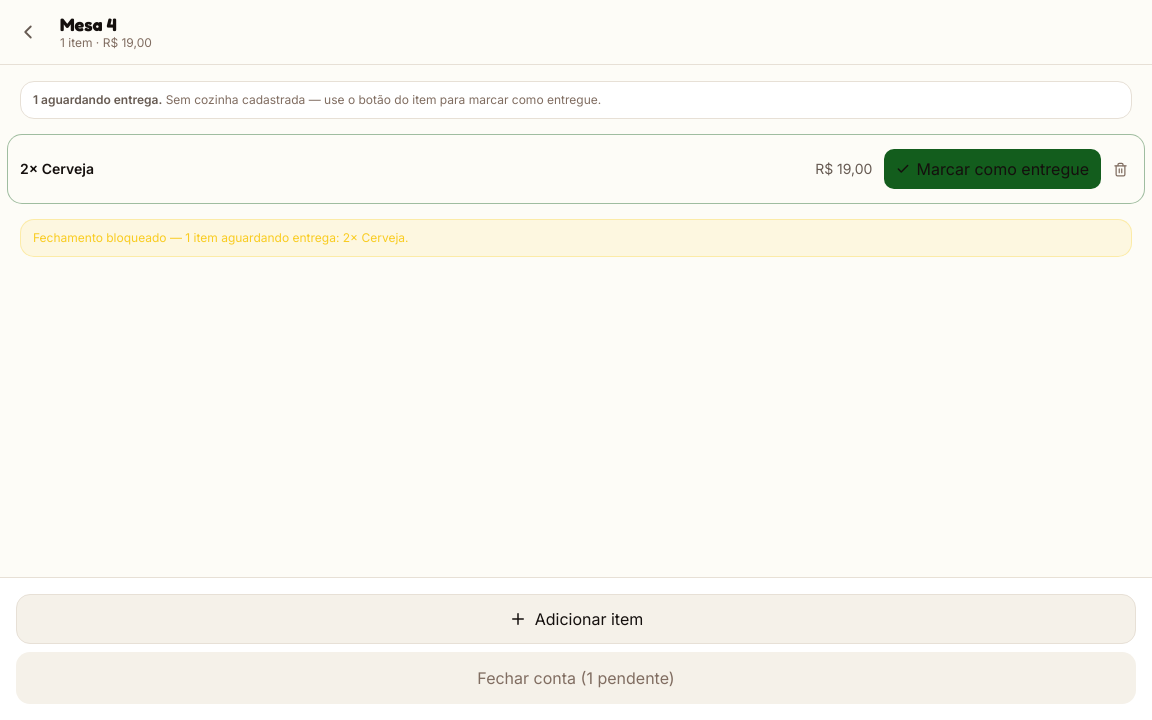
Test case: OrderDetailScreen › Esc com a confirmação aberta cancela em vez de voltar
Click the button named "Remover 2x Cerveja".
click(1120, 169)  # box x1=1109 y1=158 x2=1132 y2=180
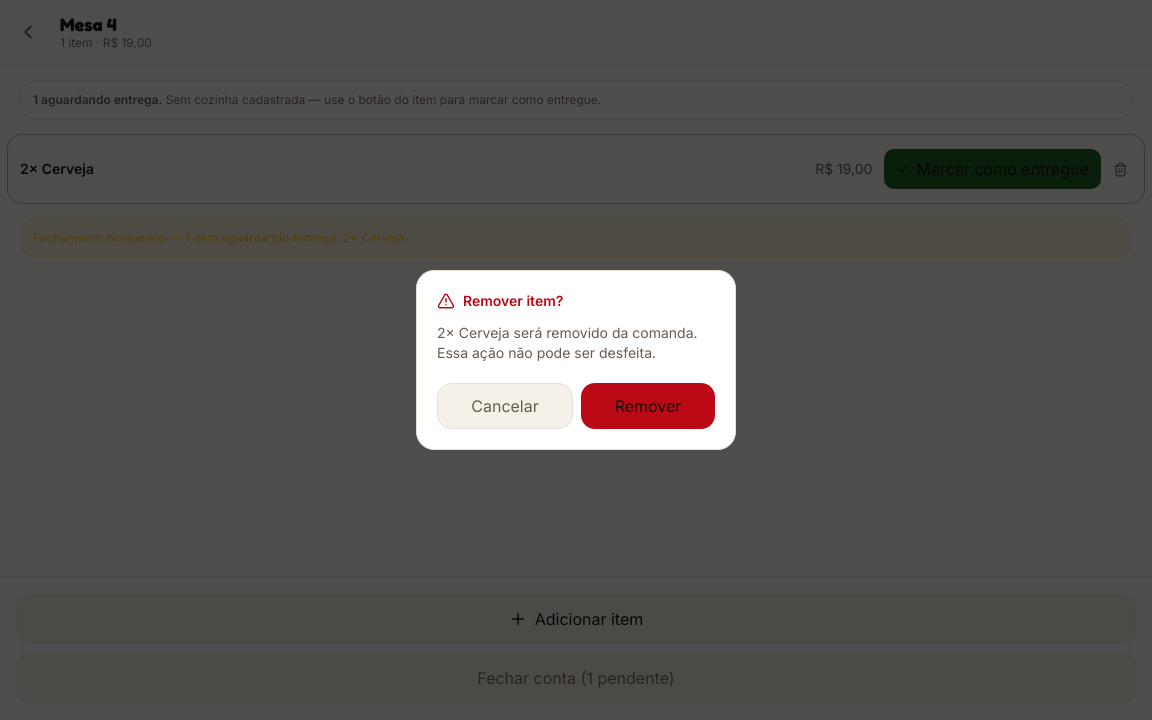
expect the dialog is shown: met
Press Escape
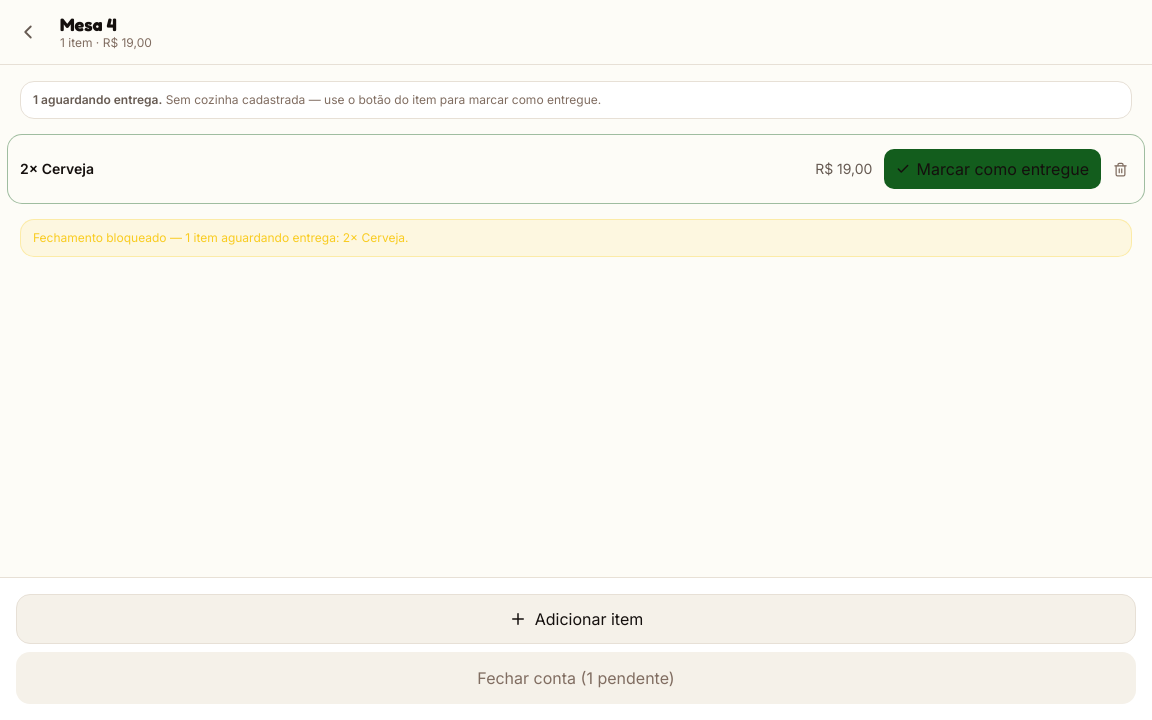
expect the dialog is gone: met
